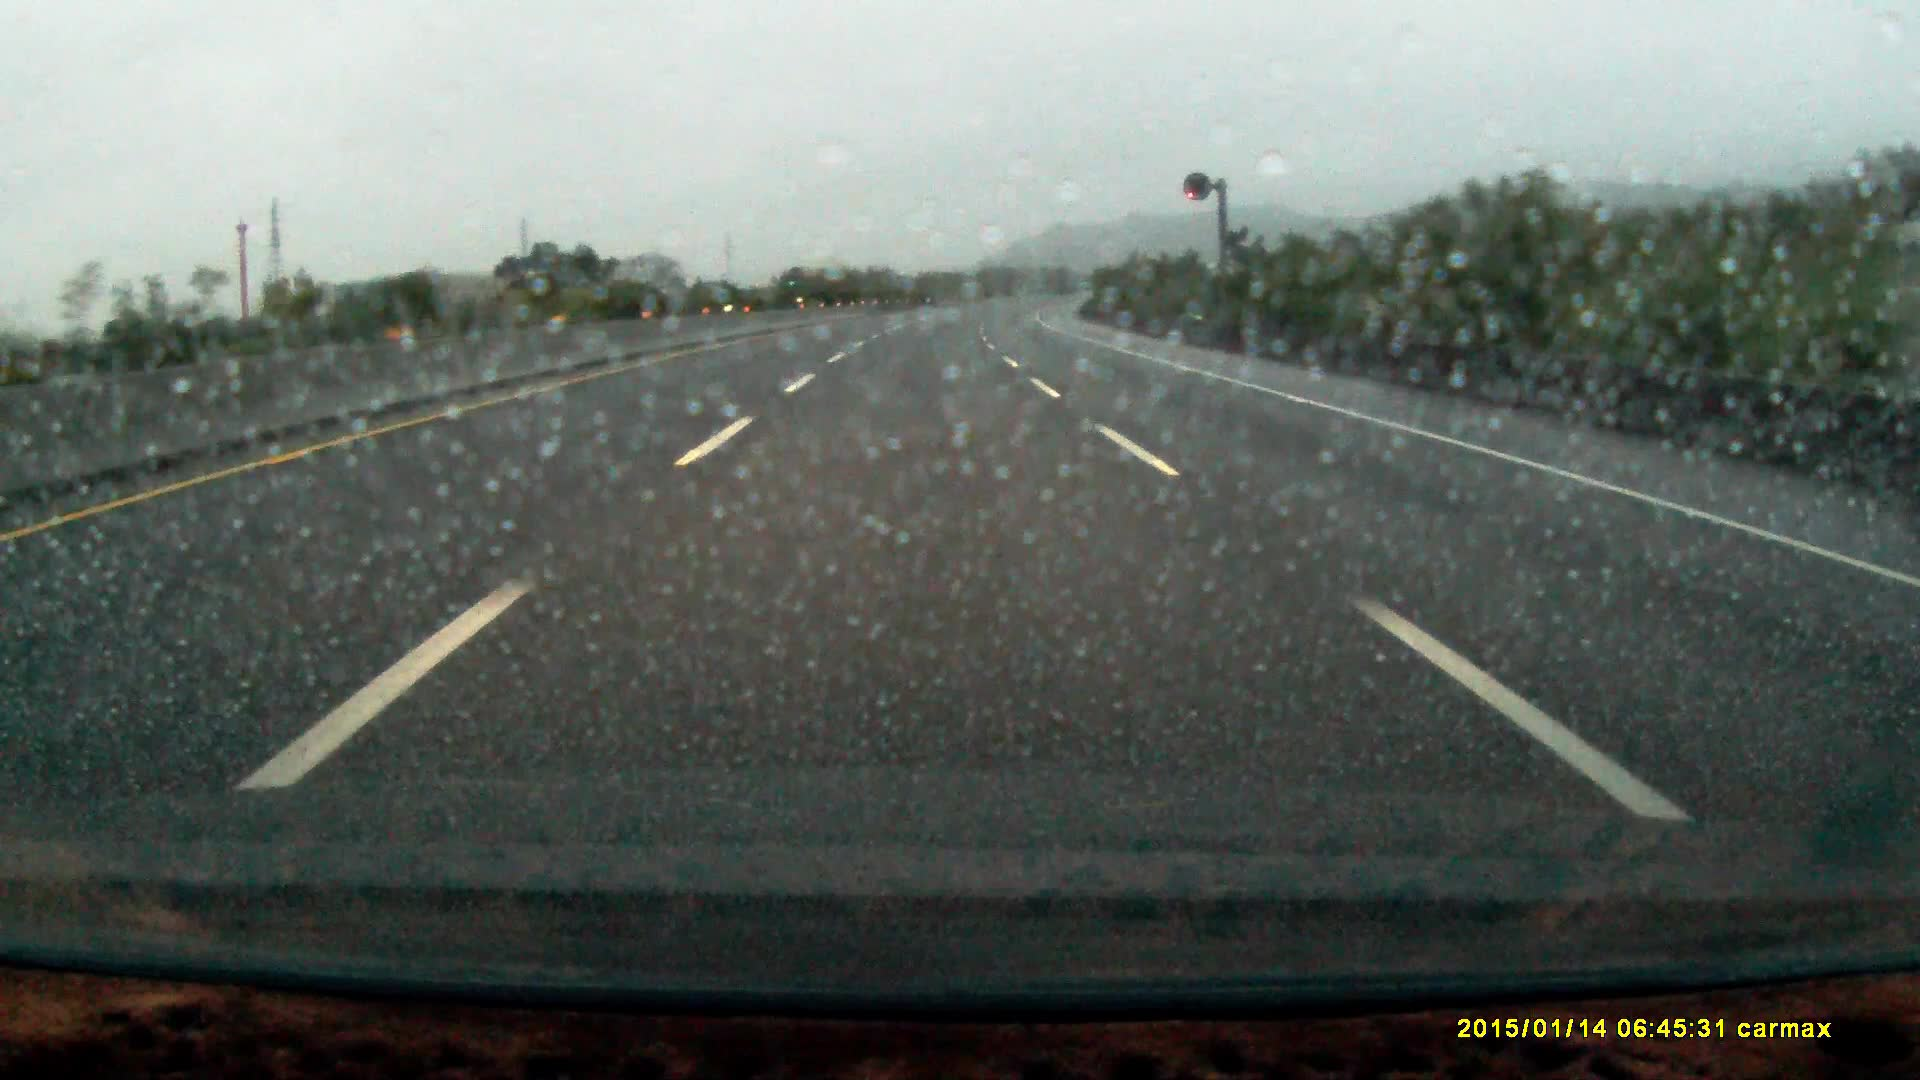vehicle: (783, 266, 824, 306)
